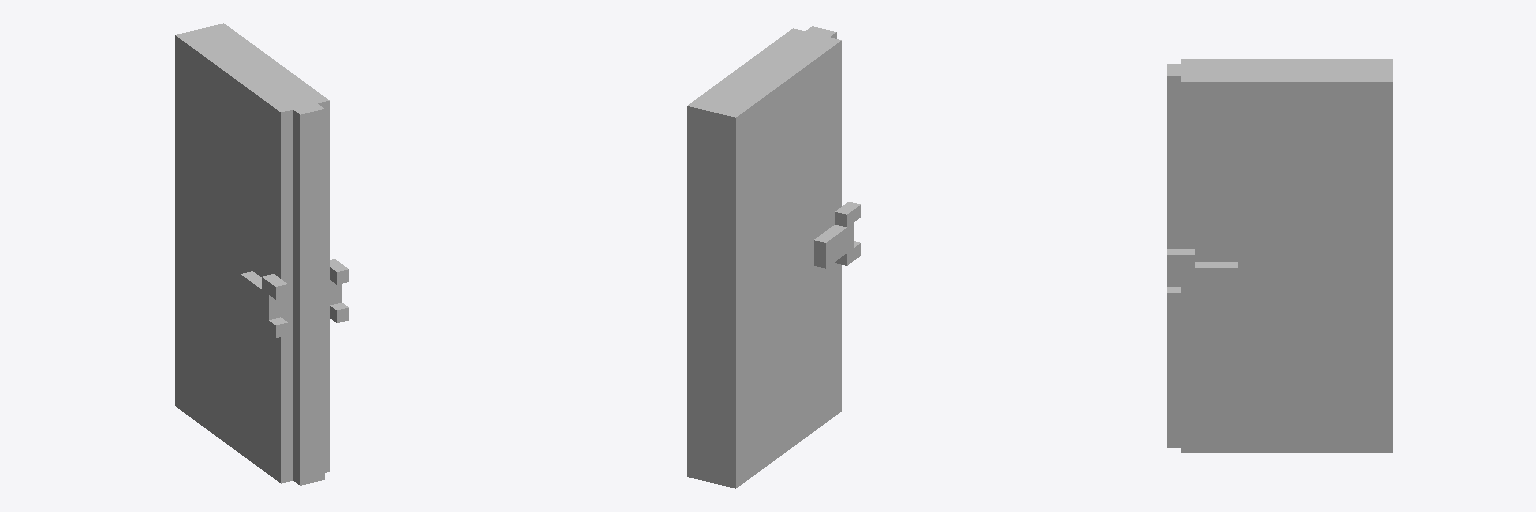
Rendered from door.obj.
3 views of the same model, side by side, from view 1: azimuth 30°, elevation 25°; view 2: azimuth 150°, elevation 25°; view 3: azimuth 270°, elevation 25° (orthographic).
Visible parts, largest first — view 1: object 1; view 2: object 1; view 3: object 1.
Part boxes in pixels (x1,y1,x2,y2): object 1: (175, 23, 348, 485); object 1: (687, 26, 860, 488); object 1: (1167, 59, 1392, 452).
Size of the model in its own units: 0.6 by 2.9 by 1.6.